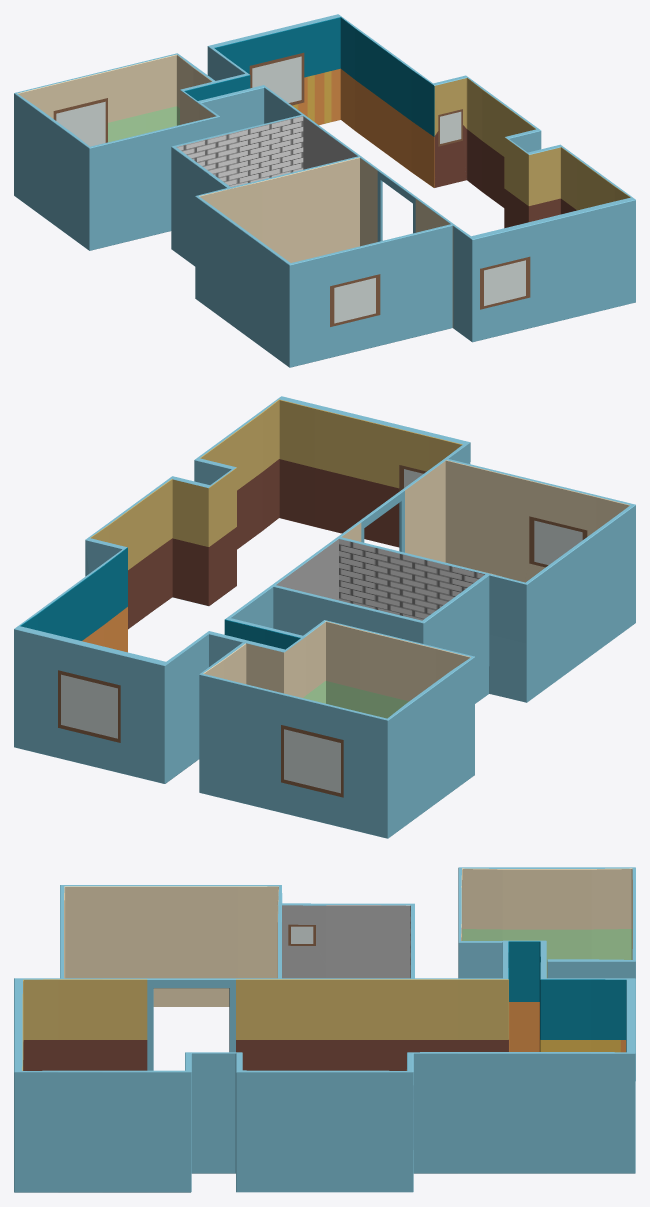
Rendered from N2_Paredes.fbx.
3 renders of one model, top to bottom at view 1: azimuth 30°, elevation 25°; view 2: azimuth 150°, elevation 25°; view 3: azimuth 270°, elevation 25°, orthographic. The views are drawn at different scales.
Visible parts, largest first — view 1: N2_Paredes; view 2: N2_Paredes; view 3: N2_Paredes.
Boxes of the visible parts, x1,y1,x2,y2 form: N2_Paredes: (14,14,635,367); N2_Paredes: (14,396,635,838); N2_Paredes: (14,867,635,1192).
Bounding box in the file's own units: 1091 × 301 × 1401.
Materials: 12 (12 with a texture image).
